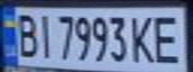3: (109, 12, 130, 63)
7: (54, 11, 75, 61)
9: (90, 12, 112, 63), (72, 11, 93, 62)
B: (12, 9, 42, 58)
E: (148, 11, 187, 65)
I: (33, 10, 57, 60)
K: (127, 11, 157, 64)
